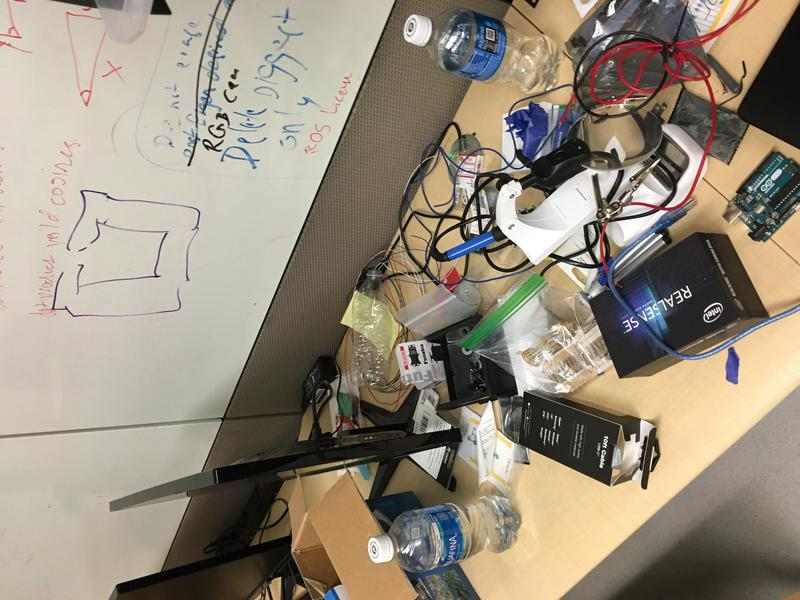bottle: (401, 5, 567, 97), (365, 493, 523, 576)
